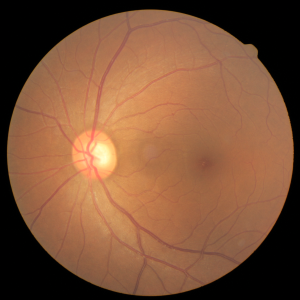glaucoma: (30, 102, 235, 219)
